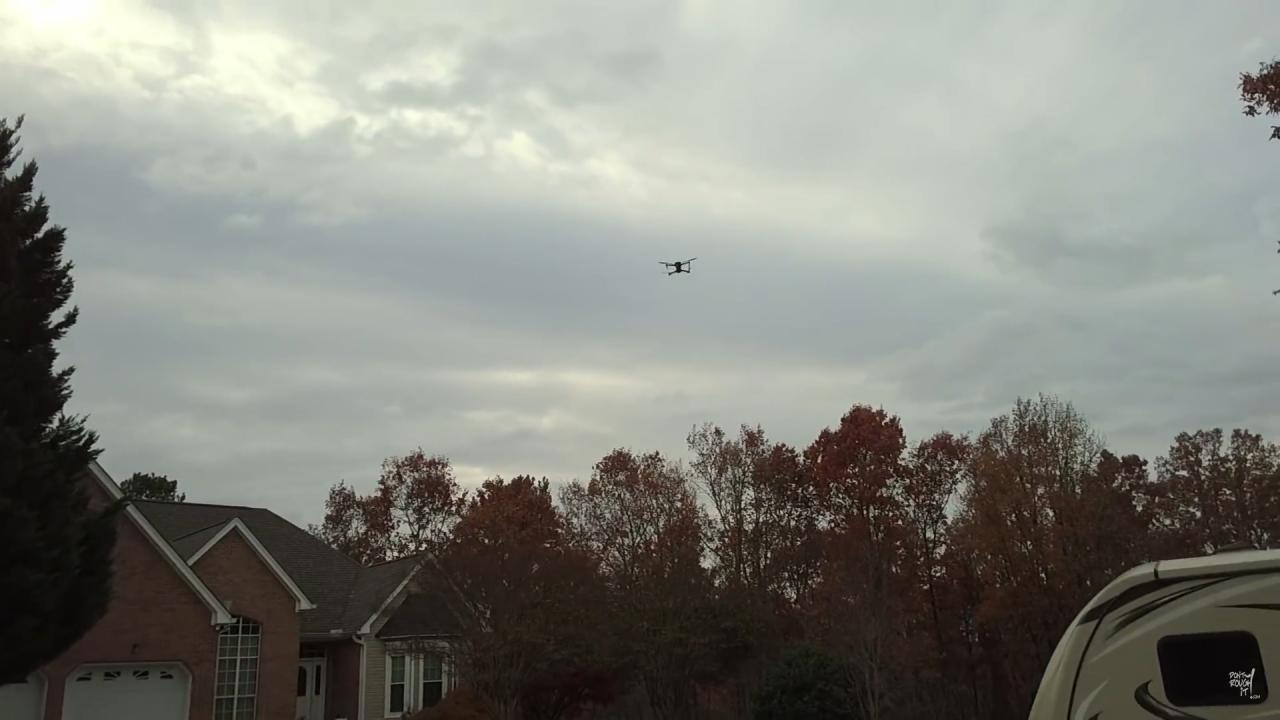Drone: (654, 254, 705, 282)
